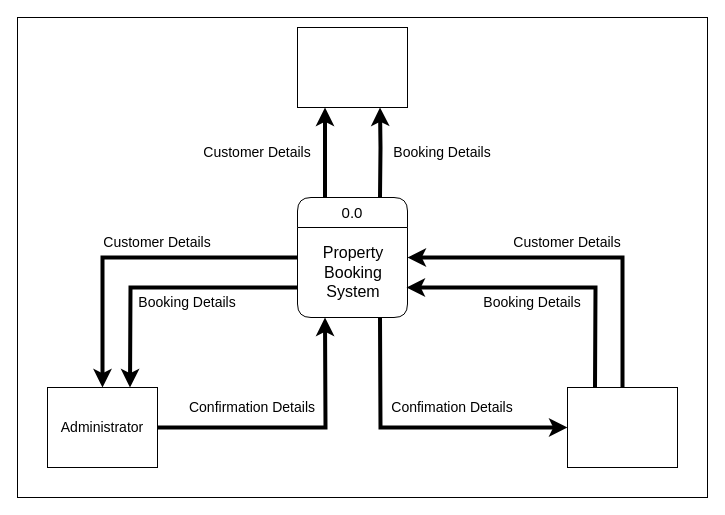
Image size: 725x515. Some labels were removed from this diagram. The shapes that lost their labels are listed below. From the top down, each one's box as (x1, y1, x2, y2) in pixels, then its label:
(296, 26, 408, 108): Property Owner
(566, 386, 678, 468): Customer
